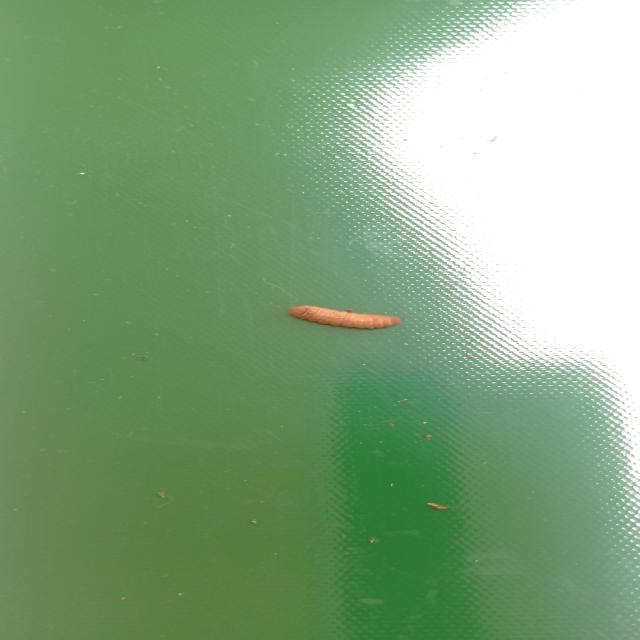Maggot: (286, 306, 402, 332)
